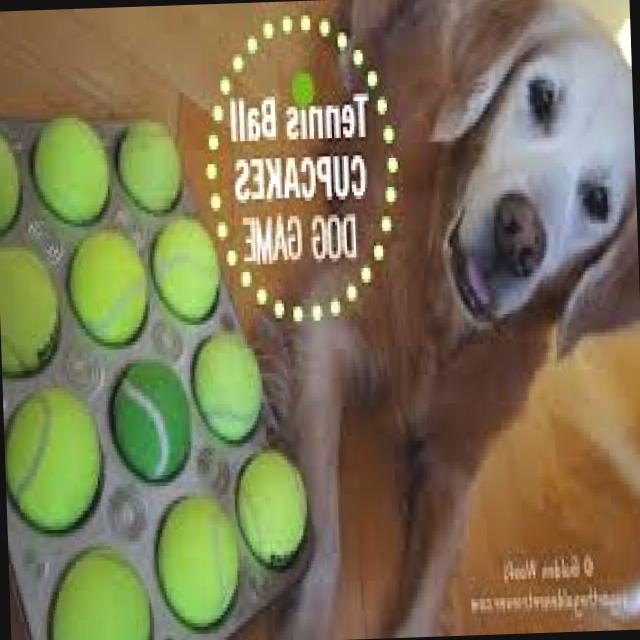Tennis Ball: (2, 383, 106, 533), (154, 492, 242, 634), (110, 358, 192, 479), (45, 546, 150, 640), (67, 232, 148, 346), (233, 448, 310, 567), (31, 114, 110, 225), (0, 244, 62, 376), (190, 331, 262, 441), (146, 216, 222, 320), (115, 118, 182, 212), (0, 125, 23, 229)
